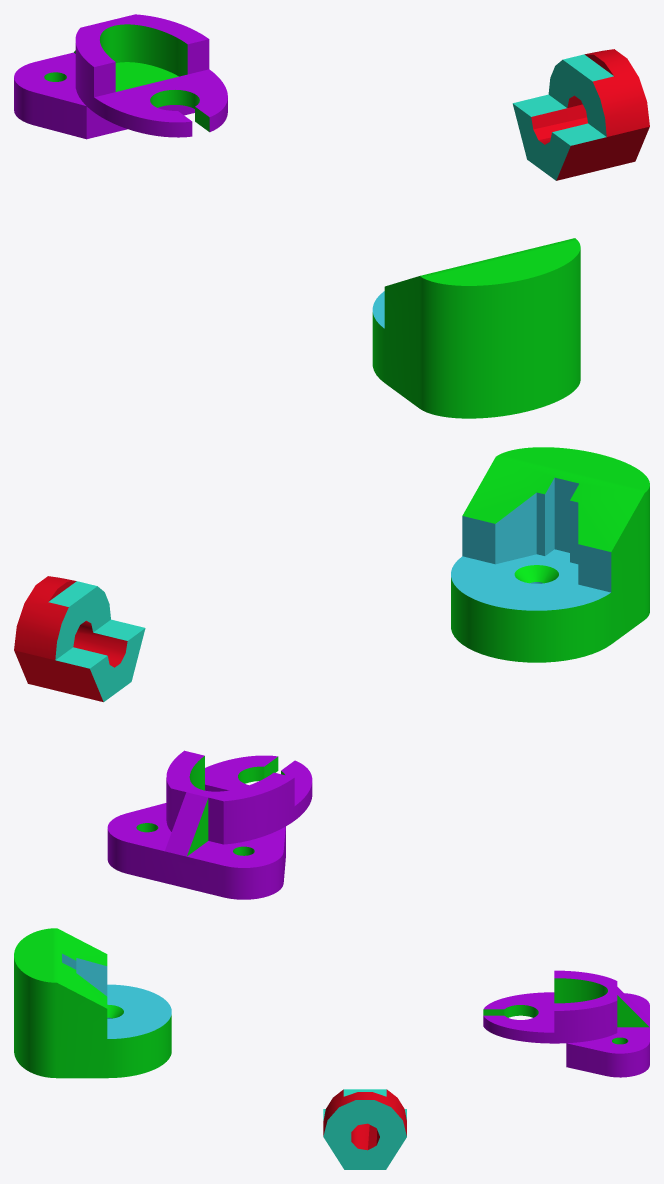
3 renders of one model, top to bottom at view 1: azimuth 30°, elevation 25°; view 2: azimuth 150°, elevation 25°; view 3: azimuth 270°, elevation 25°, orthographic. The views are drawn at different scales.
Parts seen in each view (by area): view 1: tut3qn2a (1), tut3qn2c, tut3qn1a(new); view 2: tut3qn2a (1), tut3qn2c, tut3qn1a(new); view 3: tut3qn2a (1), tut3qn2c, tut3qn1a(new).
Part boxes in pixels (left/top/right/bottom): tut3qn2a (1): left=372, top=238, right=580, bottom=418; tut3qn2c: left=14, top=14, right=227, bottom=139; tut3qn1a(new): left=512, top=49, right=649, bottom=180; tut3qn2a (1): left=451, top=447, right=649, bottom=662; tut3qn2c: left=107, top=750, right=312, bottom=899; tut3qn1a(new): left=14, top=576, right=145, bottom=702; tut3qn2a (1): left=14, top=928, right=171, bottom=1078; tut3qn2c: left=483, top=970, right=649, bottom=1077; tut3qn1a(new): left=323, top=1089, right=406, bottom=1169.
Bounding box in the file's own units: 29.45 × 8.83 × 53.15.
